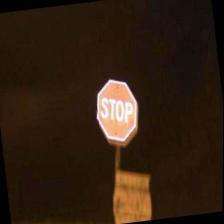Stop: (91, 75, 143, 147)
